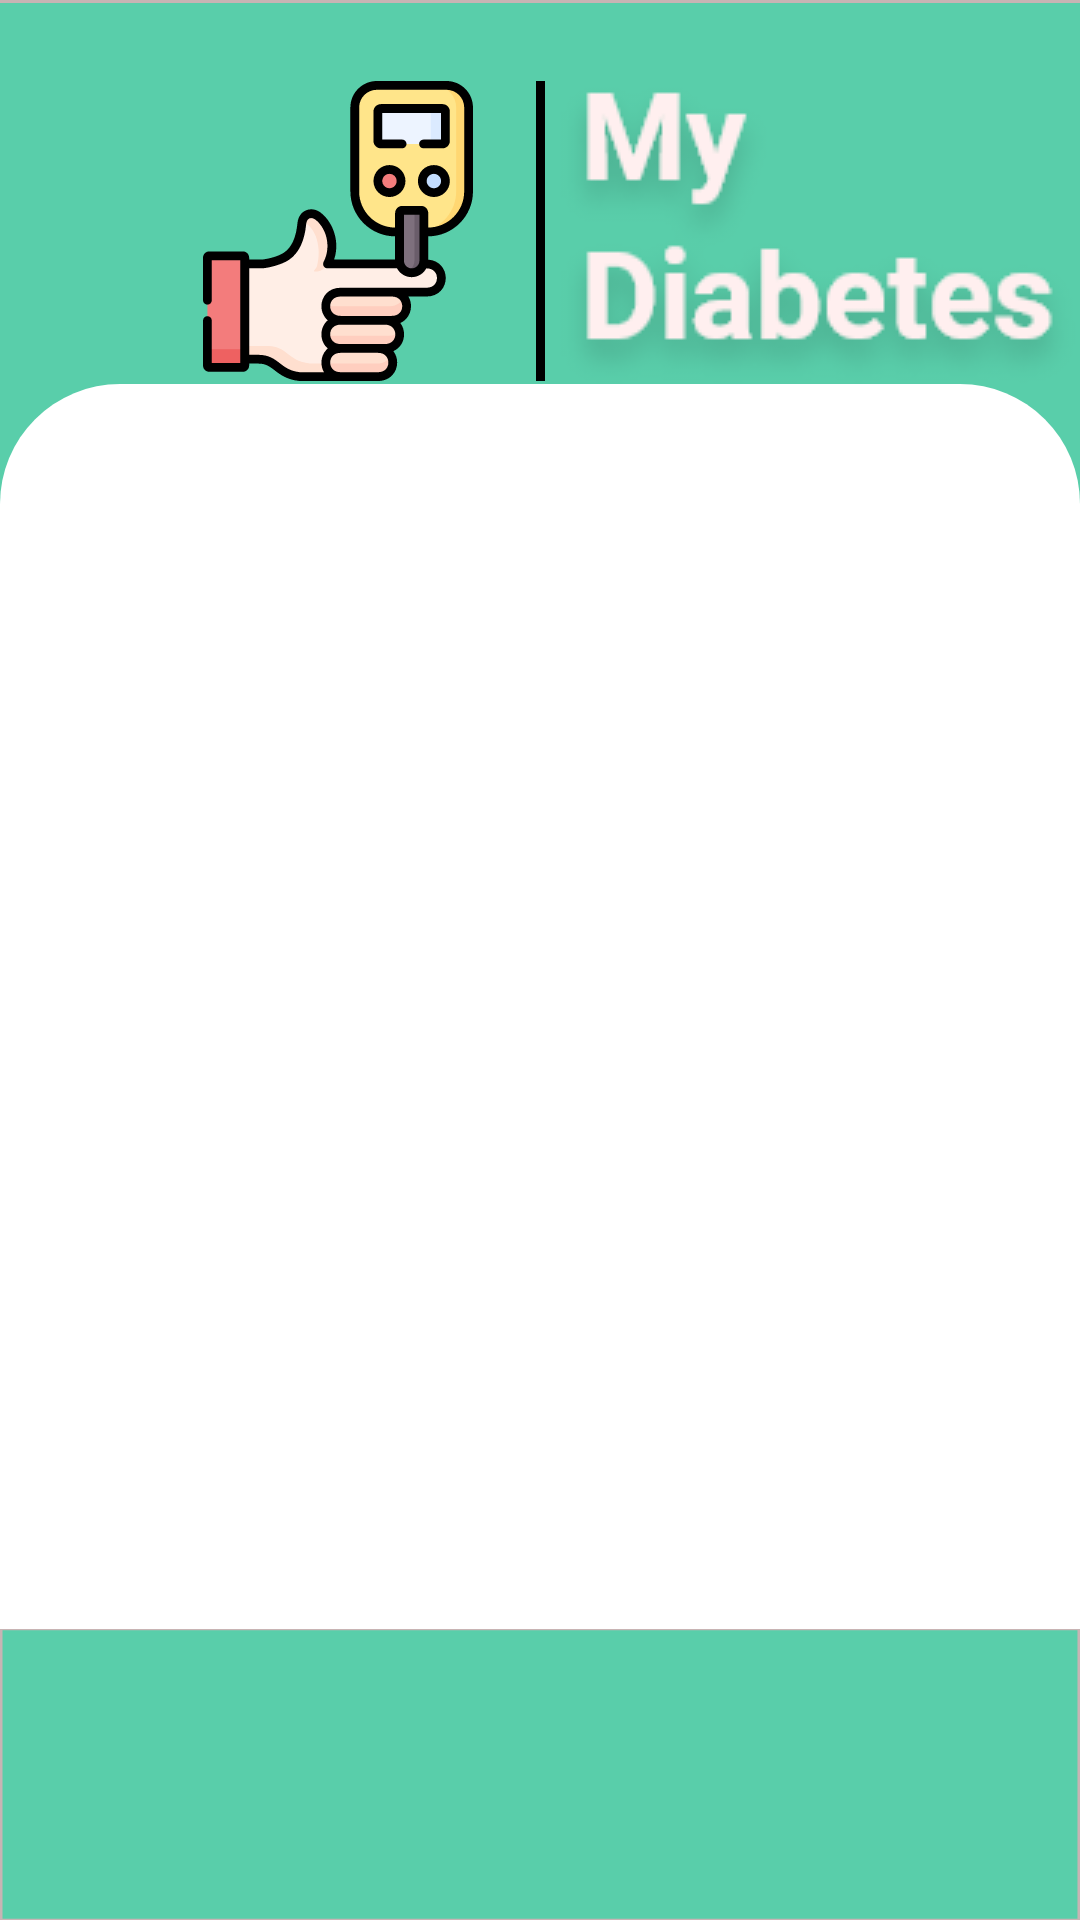

Icon click points for this 1080px x 1920px phone screenshot, format (x=x, y=y):
diabetesic: (x=338, y=231)
